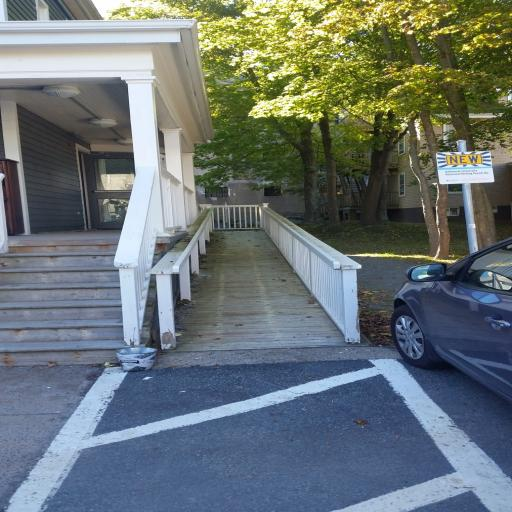ramp: (165, 230, 353, 350)
stairs: (0, 241, 122, 364)
